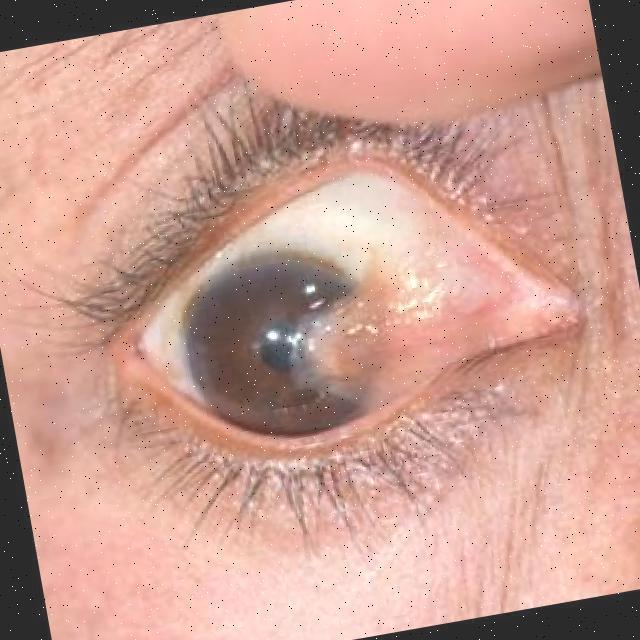Pterygium: (258, 150, 604, 438)
